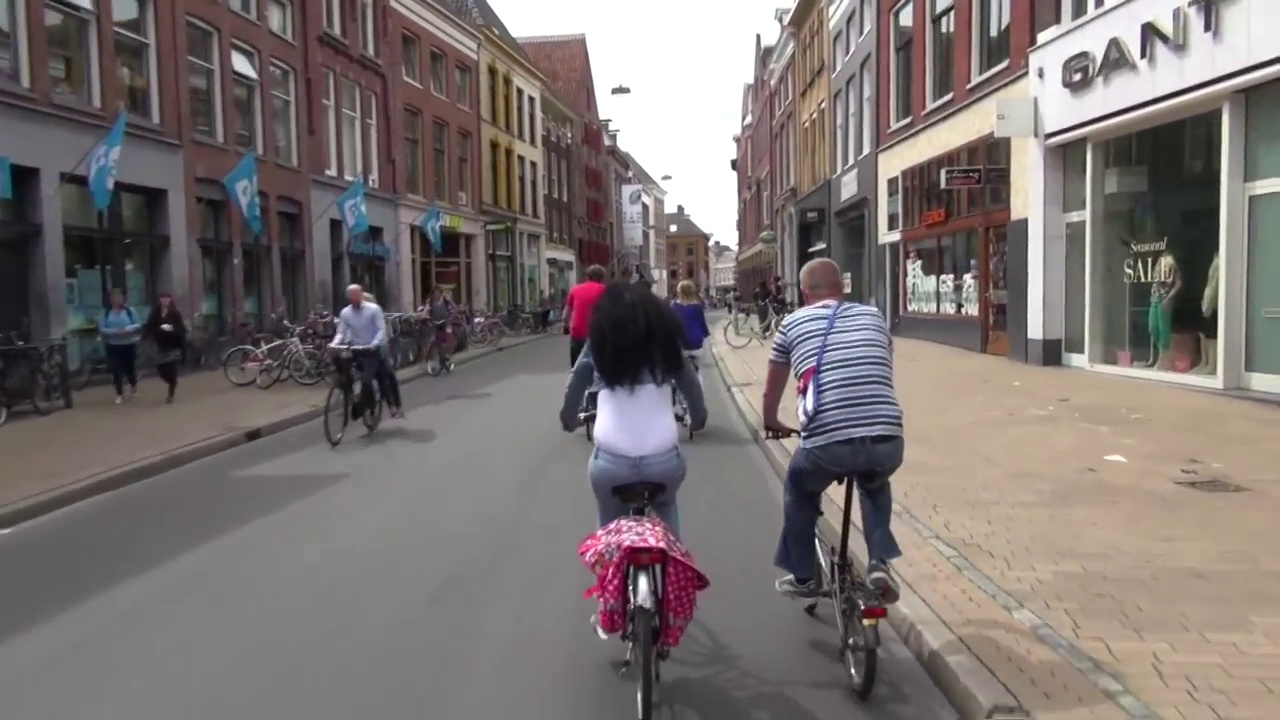cyclist_back: (561, 279, 720, 712), (759, 259, 913, 696)
cyclist_front: (321, 273, 404, 449), (421, 280, 466, 384)
